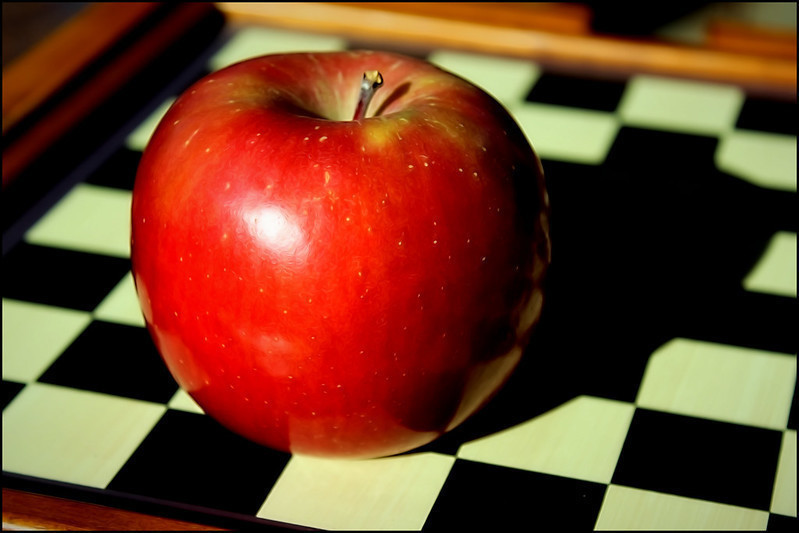apple: (123, 44, 573, 464)
